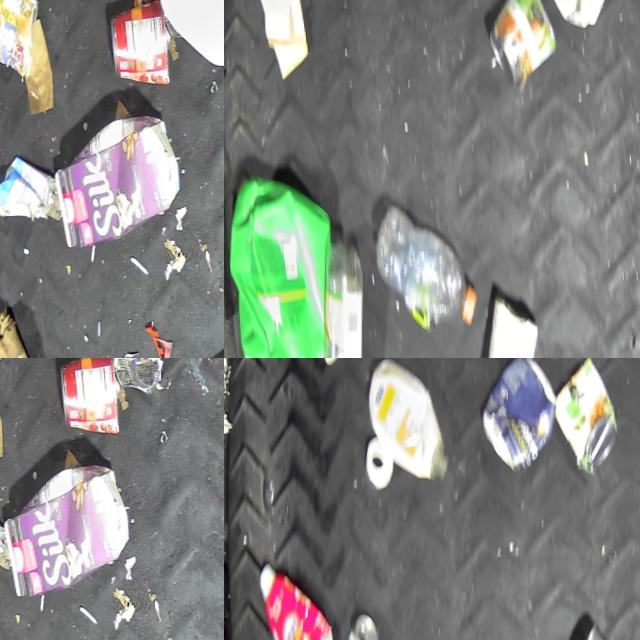can: (472, 358, 560, 478), (547, 358, 620, 477), (479, 0, 560, 89), (104, 0, 170, 87), (53, 358, 119, 437), (469, 286, 537, 358), (0, 0, 42, 76), (106, 358, 164, 396), (327, 611, 379, 640), (316, 358, 373, 372)
milk_jug: (145, 0, 224, 67), (507, 0, 624, 37)
non_white_jug: (224, 172, 340, 358), (46, 110, 179, 250), (0, 459, 128, 599), (250, 558, 336, 640)
plastic_bottle: (364, 197, 472, 341), (301, 234, 371, 358)
